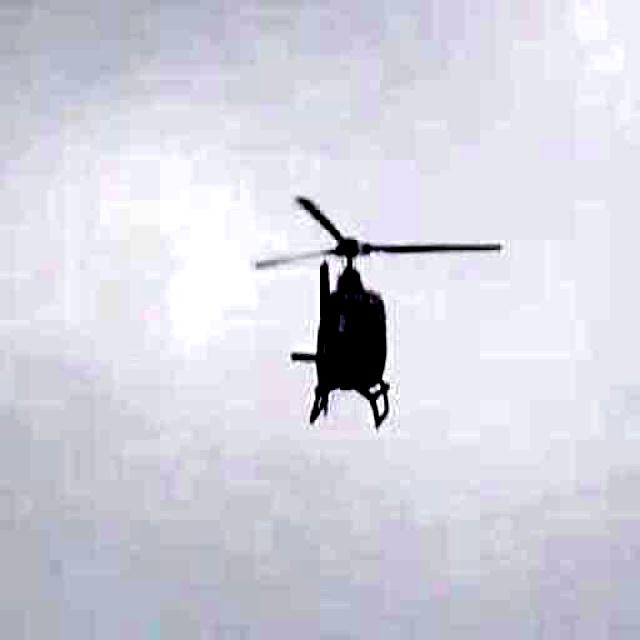drone: (232, 169, 466, 449)
